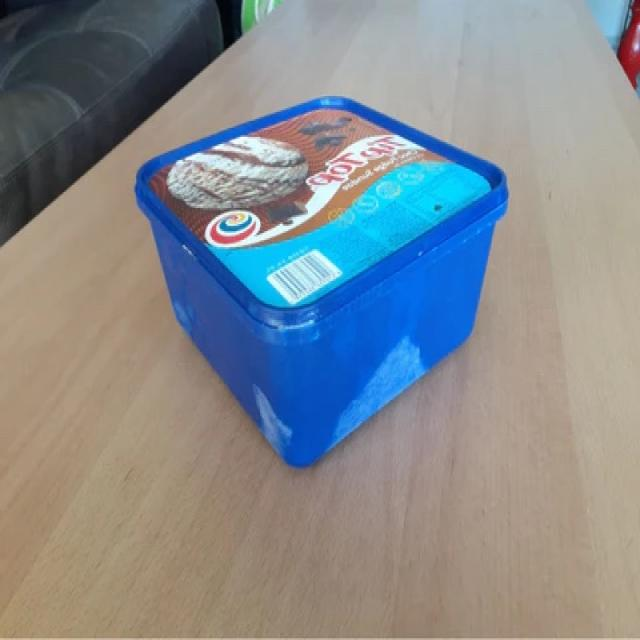plastic: (134, 91, 510, 469)
